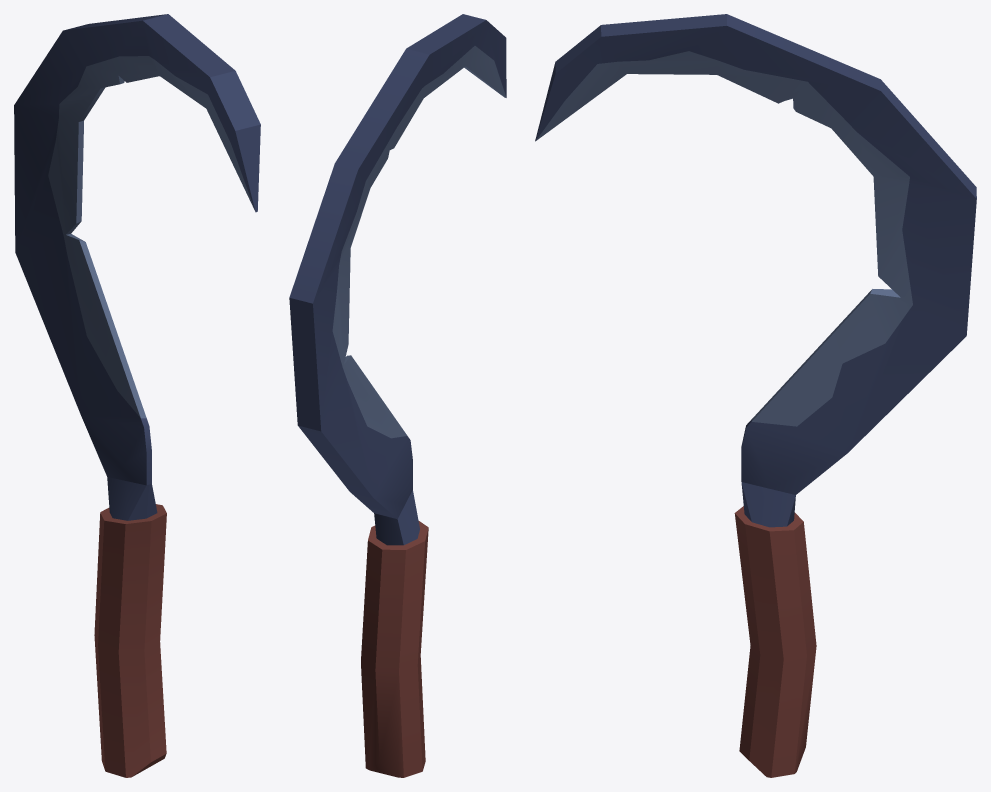
The model's file is Sicle.fbx.
The picture shows the model from 3 angles, left to right: view 1: azimuth 30°, elevation 25°; view 2: azimuth 150°, elevation 25°; view 3: azimuth 270°, elevation 25°; orthographic projection. The views are drawn at different scales.
Parts seen in each view (by area): view 1: PoorManSicle; view 2: PoorManSicle; view 3: PoorManSicle.
Boxes of the visible parts, x1,y1,x2,y2 form: PoorManSicle: (14, 14, 260, 777); PoorManSicle: (289, 14, 506, 777); PoorManSicle: (535, 14, 976, 777).
Size of the model in its own units: 6.6 by 79.41 by 42.71.
